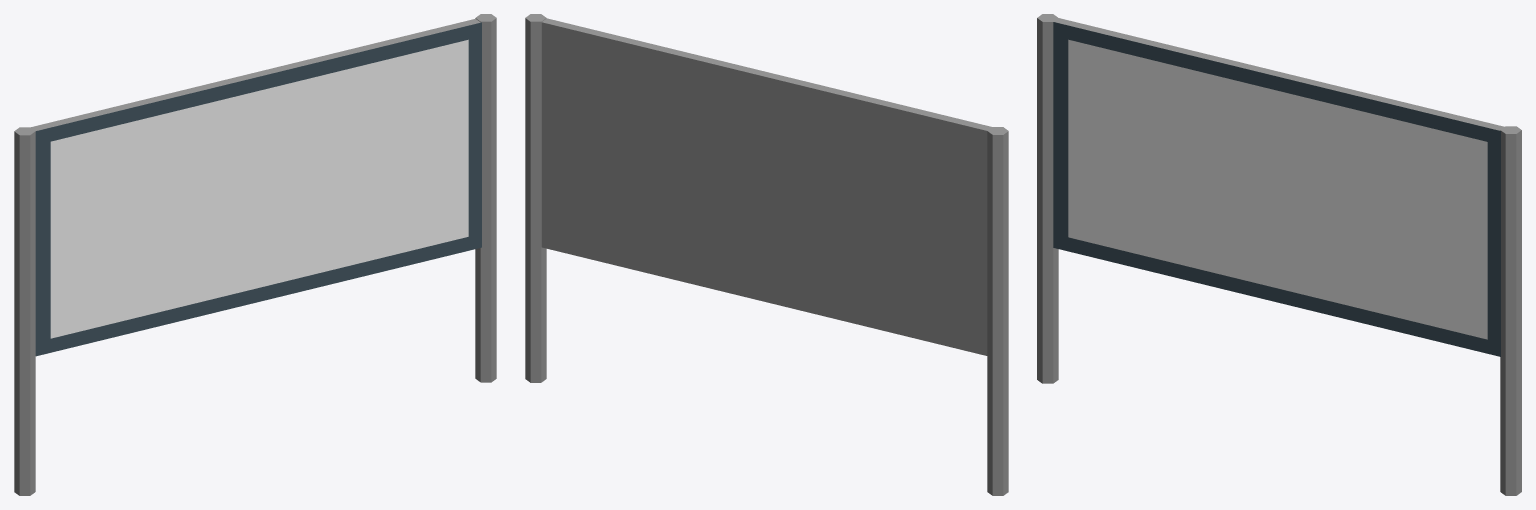
The model's file is Sign.fbx.
The picture shows the model from 3 angles, left to right: view 1: azimuth 30°, elevation 25°; view 2: azimuth 150°, elevation 25°; view 3: azimuth 330°, elevation 25°; orthographic projection.
Visible parts, largest first — view 1: group176403894; view 2: group176403894; view 3: group176403894.
Boxes of the visible parts, left/top/right/bottom form: group176403894: left=14, top=14, right=496, bottom=495; group176403894: left=525, top=14, right=1008, bottom=495; group176403894: left=1037, top=14, right=1521, bottom=495.
Size of the model in its own units: 326 by 236 by 12.92.
